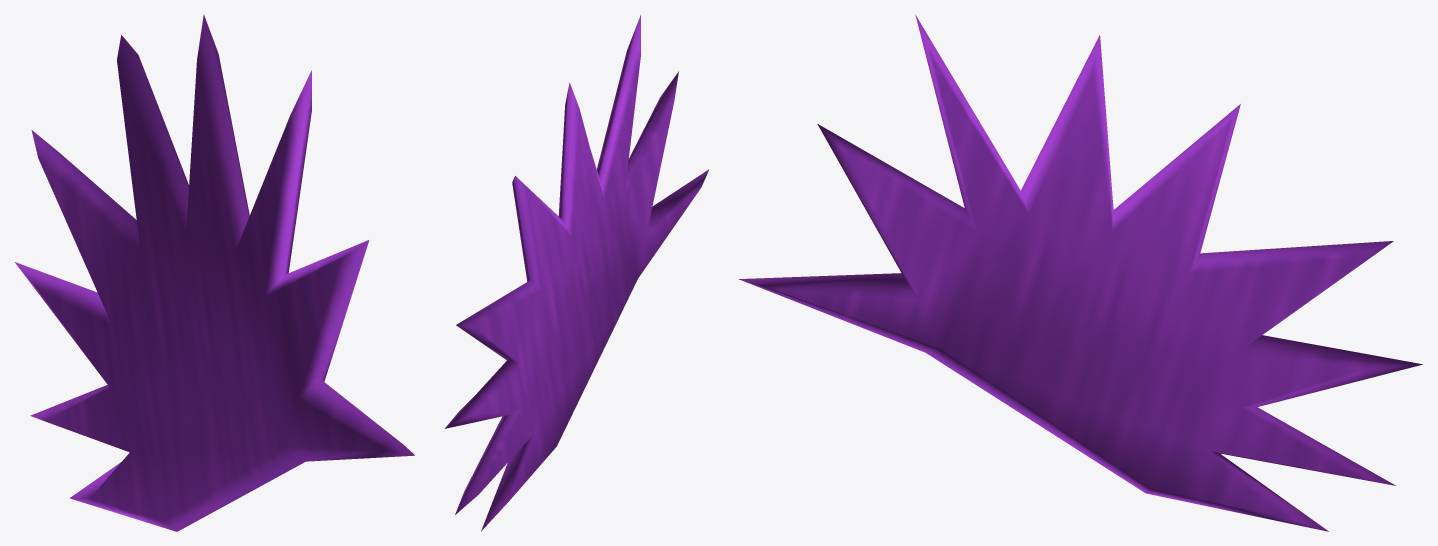
Rendered from buzzsaw.glb.
The picture shows the model from 3 angles, left to right: view 1: azimuth 30°, elevation 25°; view 2: azimuth 150°, elevation 25°; view 3: azimuth 270°, elevation 25°; orthographic projection. The views are drawn at different scales.
Parts seen in each view (by area): view 1: Buzzsaw; view 2: Buzzsaw; view 3: Buzzsaw.
Part boxes in pixels (box(x1,y1,x2,y2)): Buzzsaw: box(15, 14, 414, 531); Buzzsaw: box(445, 15, 709, 531); Buzzsaw: box(738, 15, 1422, 531).
Bounding box in the file's own units: 0.0152 × 0.4075 × 0.4887.
Materials: 1 (1 with a texture image).
